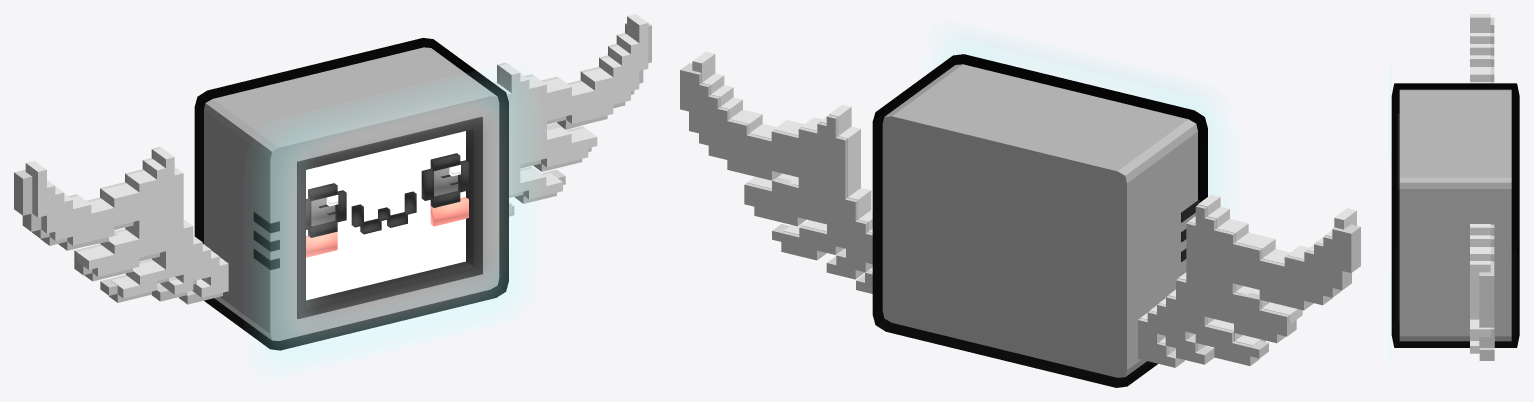
Rendered from MetaScreen_test1.glb.
The picture shows the model from 3 angles, left to right: view 1: azimuth 30°, elevation 25°; view 2: azimuth 150°, elevation 25°; view 3: azimuth 270°, elevation 25°; orthographic projection. The views are drawn at different scales.
Parts seen in each view (by area): view 1: metaboy_idk.004; view 2: metaboy_idk.004; view 3: metaboy_idk.004.
Boxes of the visible parts, <box> form: metaboy_idk.004: <box>14,14,651,361</box>; metaboy_idk.004: <box>680,40,1360,387</box>; metaboy_idk.004: <box>1391,14,1519,360</box>.
Size of the model in its own units: 5.36 by 2.12 by 1.14.
12 materials, 1 textured.
